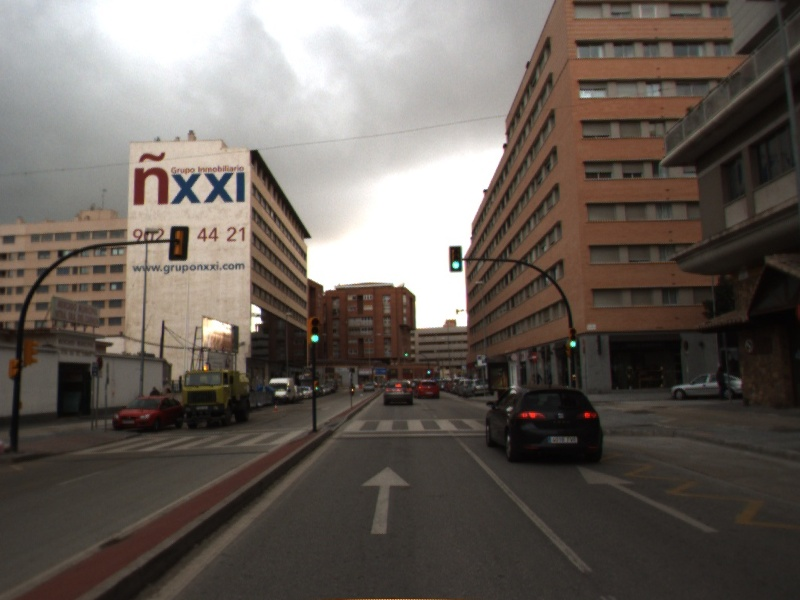STRAIGHT: (573, 461, 723, 536), (358, 463, 415, 536)
